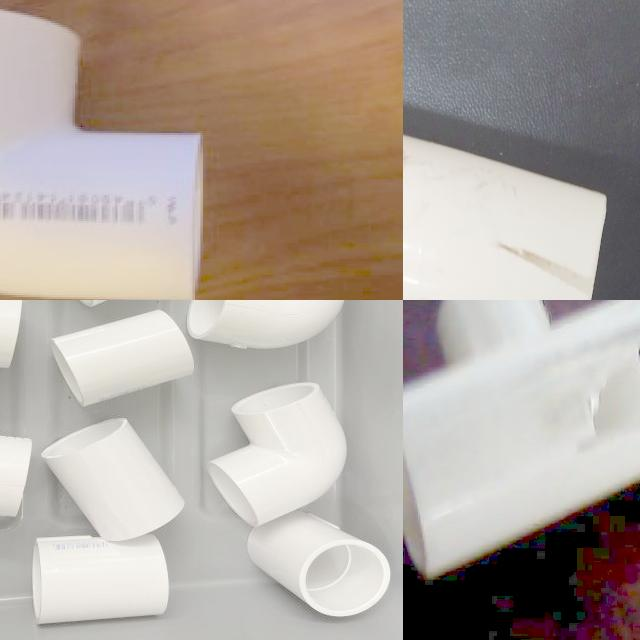Defective: (546, 306, 640, 464), (403, 160, 433, 273)
L Joint: (0, 10, 205, 300), (207, 383, 349, 530), (188, 300, 346, 351)
T Joint: (403, 300, 640, 584), (403, 5, 591, 300)
